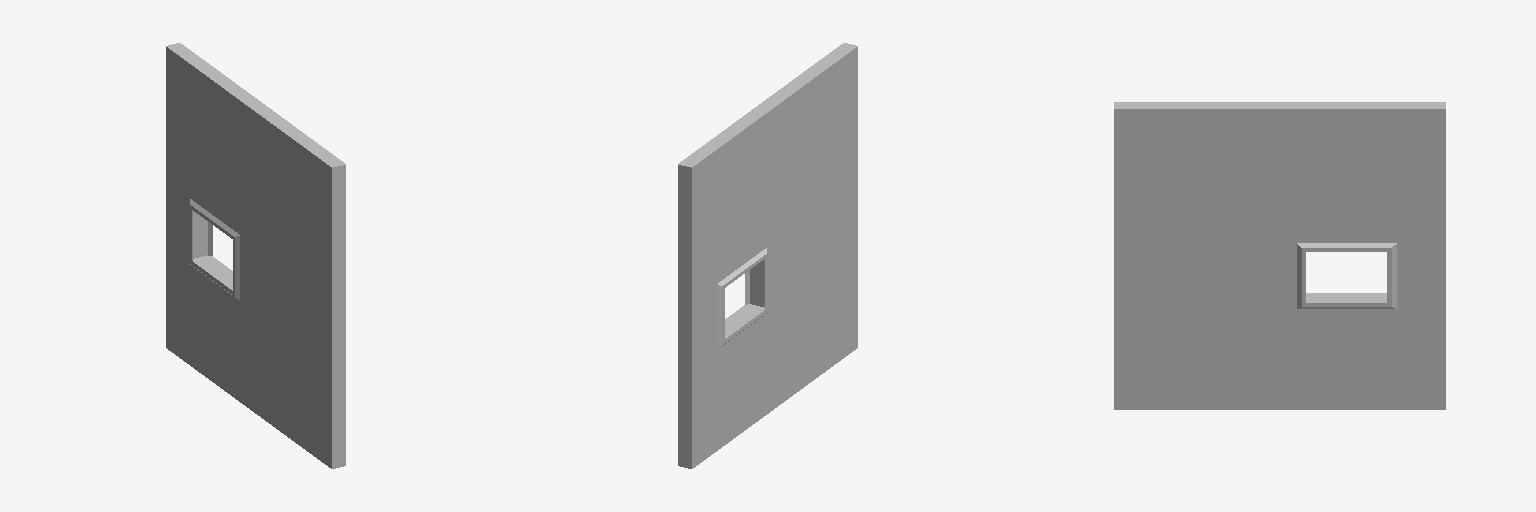
Rendered from mod_wall_2.obj.
3 views of the same model, side by side, from view 1: azimuth 30°, elevation 25°; view 2: azimuth 150°, elevation 25°; view 3: azimuth 270°, elevation 25° (orthographic).
Visible parts, largest first — view 1: pCube1; view 2: pCube1; view 3: pCube1.
Boxes of the visible parts, x1,y1,x2,y2 form: pCube1: [166, 43, 345, 468]; pCube1: [678, 43, 857, 468]; pCube1: [1114, 102, 1445, 409].
Size of the model in its own units: 1.42 by 20 by 20.